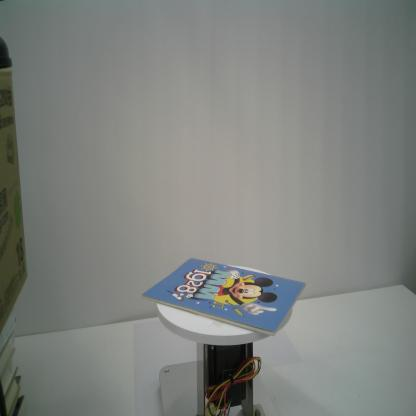Stationery: (141, 258, 307, 337)
